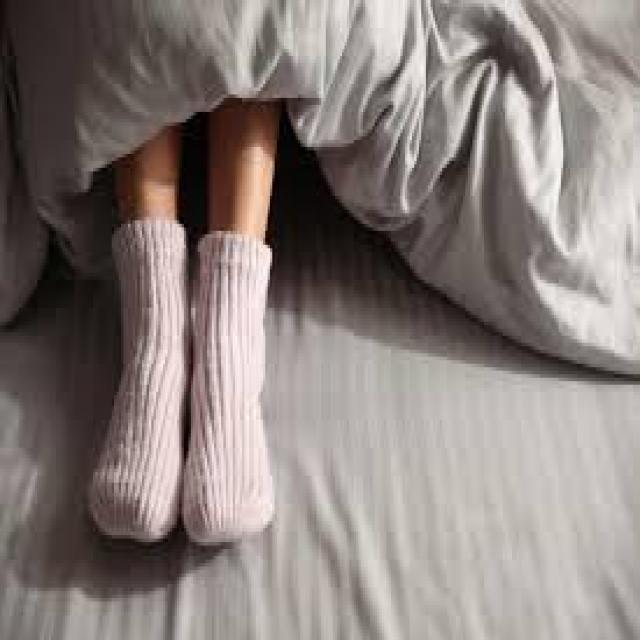sock: (84, 213, 188, 542), (179, 227, 275, 546)
